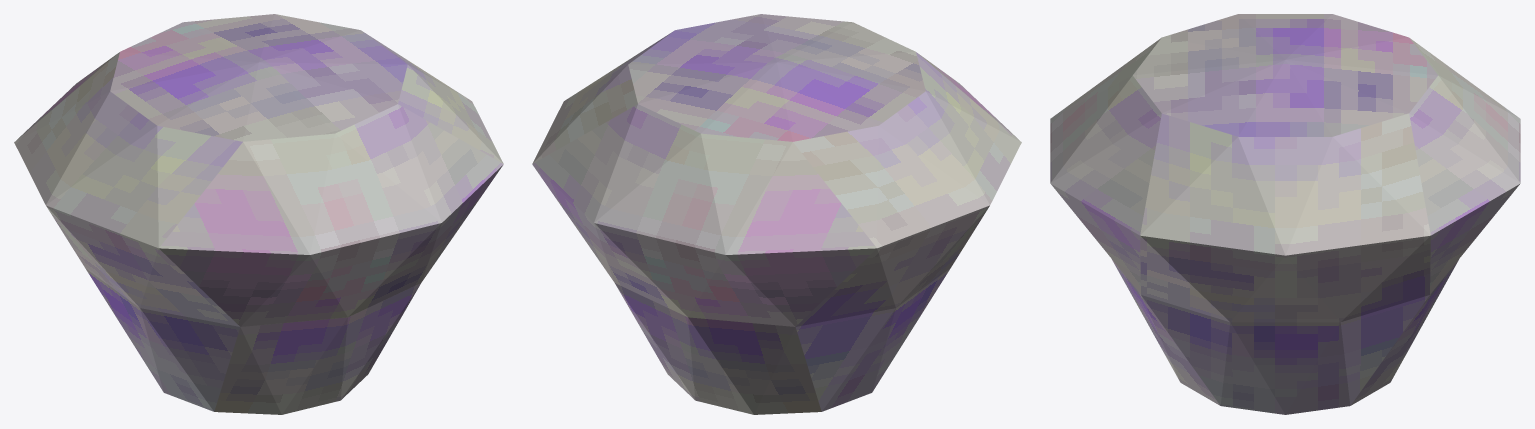
Rendered from jw_diamond.glb.
3 renders of one model, left to right at view 1: azimuth 30°, elevation 25°; view 2: azimuth 150°, elevation 25°; view 3: azimuth 270°, elevation 25°, orthographic.
Parts seen in each view (by area): view 1: jw_diamond; view 2: jw_diamond; view 3: jw_diamond.
Boxes of the visible parts, left/top/right/bottom form: jw_diamond: left=14, top=14, right=503, bottom=414; jw_diamond: left=532, top=14, right=1021, bottom=414; jw_diamond: left=1050, top=14, right=1520, bottom=414.
Size of the model in its own units: 0.0715 by 0.0492 by 0.068.
1 material, 1 textured.
